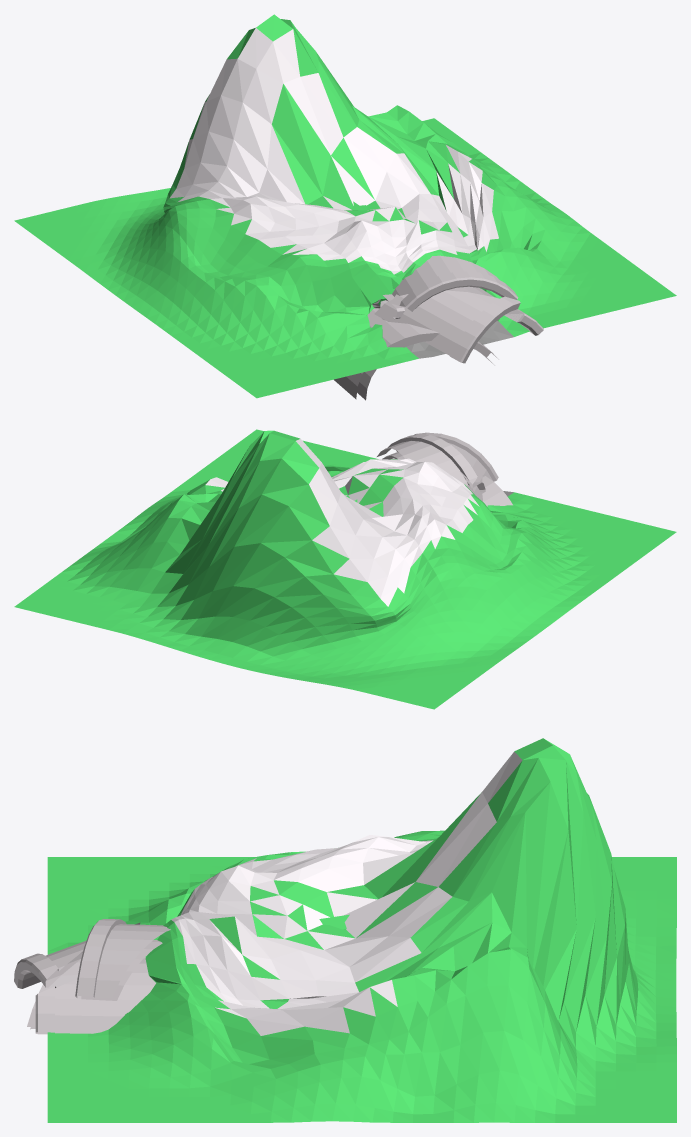
File: tunnel1.fbx
3 views of the same model, one above another, from view 1: azimuth 30°, elevation 25°; view 2: azimuth 150°, elevation 25°; view 3: azimuth 270°, elevation 25° (orthographic). The views are drawn at different scales.
Visible parts, largest first — view 1: Plane, Cylinder, Cylinder.001, Cylinder.003, Cylinder.002; view 2: Plane, Cylinder.001, Cylinder, Cylinder.003; view 3: Plane, Cylinder.001, Cylinder.002, Cylinder.
Part boxes in pixels (x1=…): Plane: x1=14, y1=14, x2=676, y2=398; Cylinder: x1=374, y1=290, x2=520, y2=363; Cylinder.001: x1=386, y1=255, x2=518, y2=311; Cylinder.003: x1=334, y1=300, x2=498, y2=400; Cylinder.002: x1=447, y1=286, x2=543, y2=335; Plane: x1=14, y1=429, x2=676, y2=709; Cylinder.001: x1=377, y1=434, x2=477, y2=485; Cylinder: x1=414, y1=432, x2=498, y2=501; Cylinder.003: x1=482, y1=475, x2=512, y2=512; Plane: x1=47, y1=738, x2=676, y2=1122; Cylinder.001: x1=75, y1=919, x2=170, y2=1000; Cylinder.002: x1=35, y1=958, x2=155, y2=1034; Cylinder: x1=14, y1=922, x2=140, y2=988.
Bounding box in the file's own units: 2236 × 1214 × 2354.
